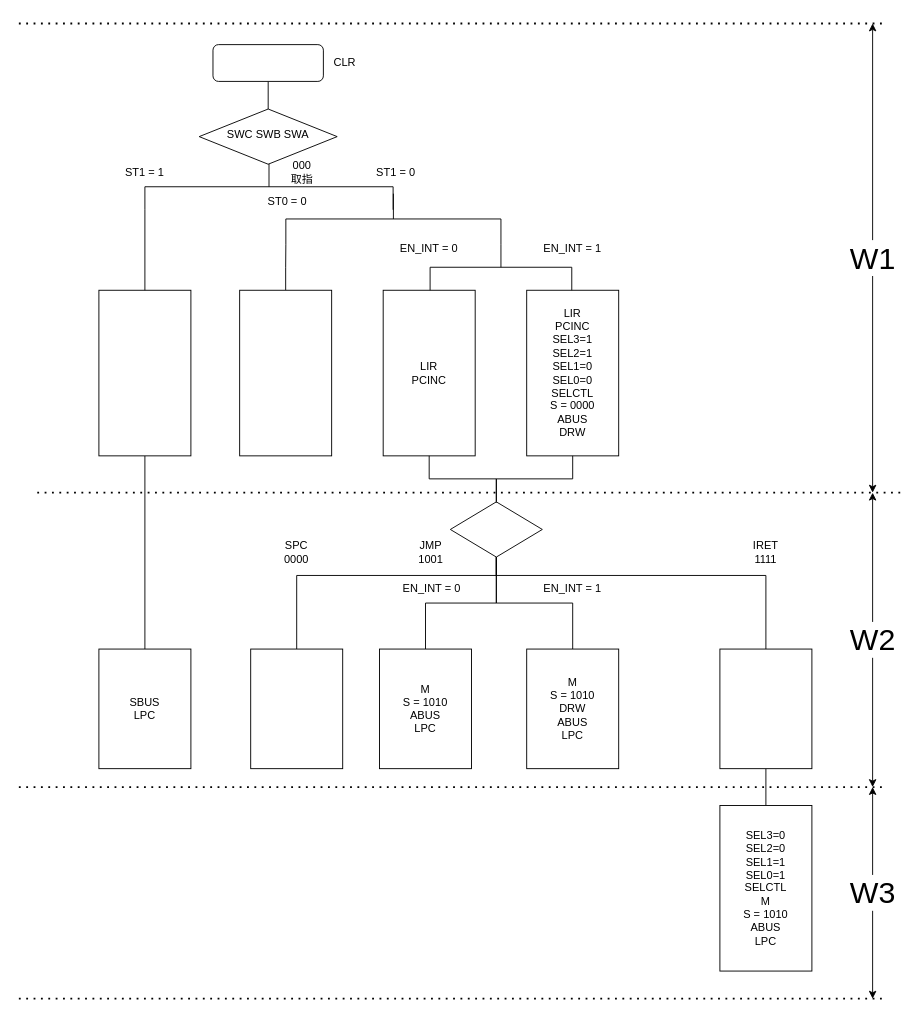
Image size: 917x1023. Some labels were removed from this diagram. The centre of each missing label's shape, as x and y in pixels:
"INTDI STOP" belongs at point (144, 372).
"INTEN LONG STOP" belongs at point (765, 708).
"IR7~IR4" belongs at point (495, 529).
"SEL3=1 SEL2=1 SEL1=0 SEL0=0 SBUS LPC DRW SST0 SHORT STOP" belongs at point (285, 372).
"ST0 = 1" belongs at point (500, 266).
